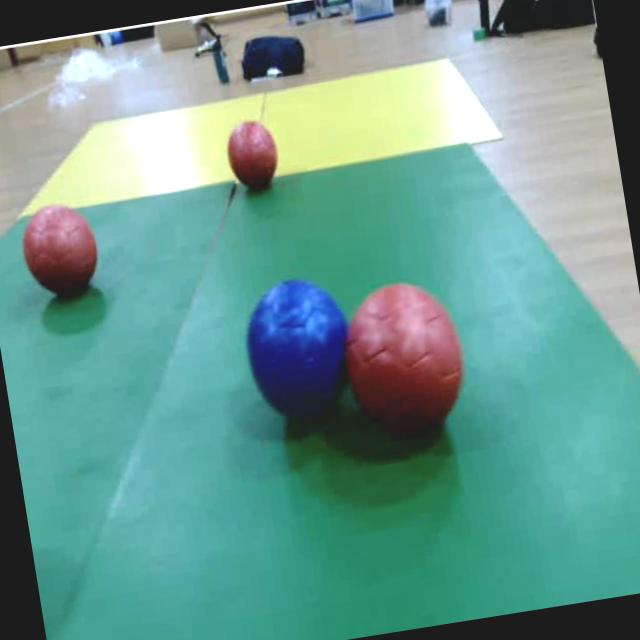blue_ball: (235, 262, 360, 437)
red_ball: (340, 279, 476, 451), (12, 194, 108, 308), (218, 112, 288, 202)
